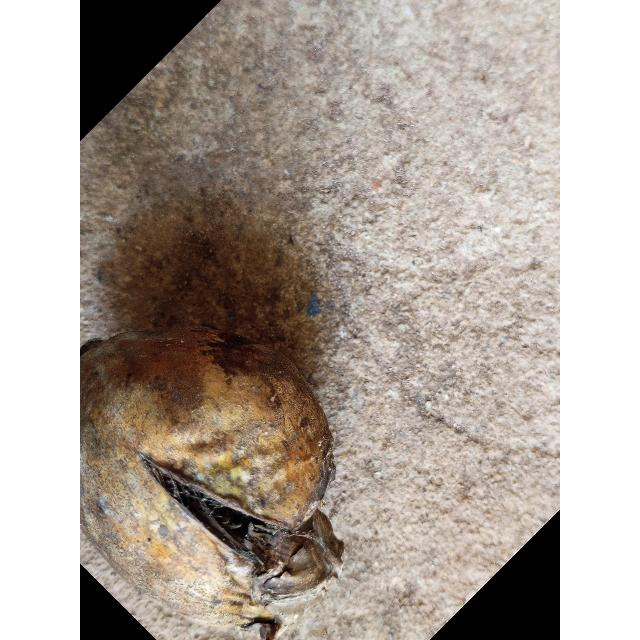damaged: (80, 327, 344, 640)
